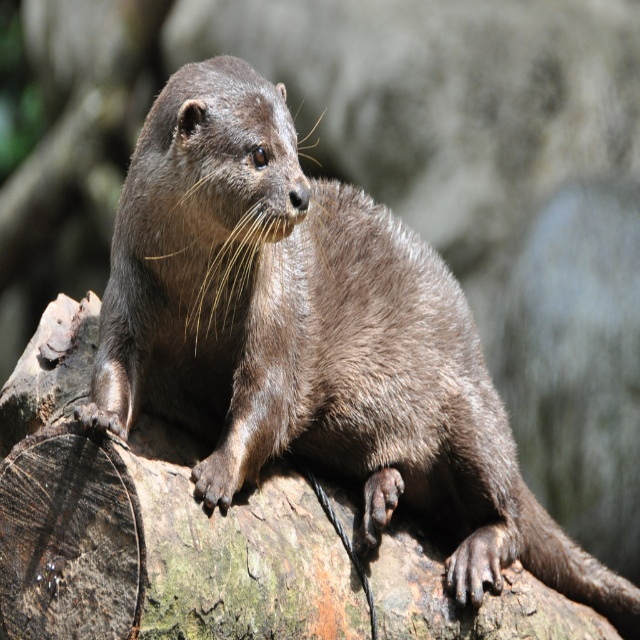Otter: (65, 49, 640, 636)
